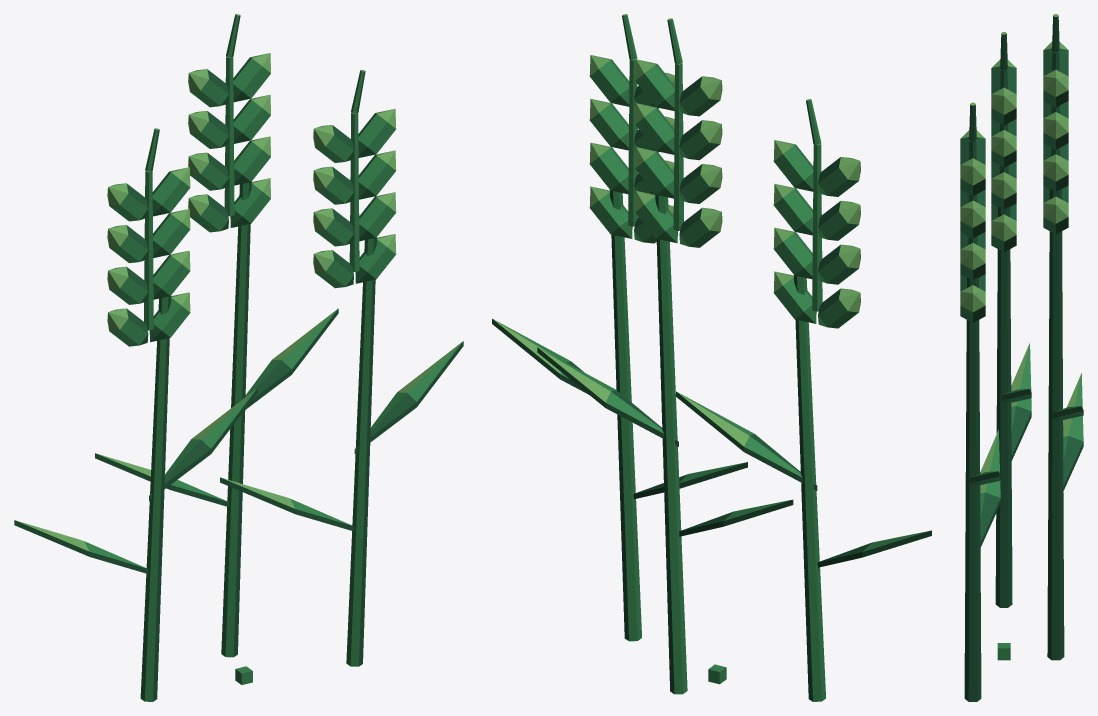
The model's file is wheat_stage_03.fbx.
3 renders of one model, left to right at view 1: azimuth 30°, elevation 25°; view 2: azimuth 150°, elevation 25°; view 3: azimuth 270°, elevation 25°, orthographic. The views are drawn at different scales.
Parts seen in each view (by area): view 1: wheat_stage_03__Foliage; view 2: wheat_stage_03__Foliage; view 3: wheat_stage_03__Foliage, wheat_stage_03__Origin.
Boxes of the visible parts, bbox=[...] form: wheat_stage_03__Foliage: bbox=[14, 14, 463, 701]; wheat_stage_03__Foliage: bbox=[492, 14, 931, 701]; wheat_stage_03__Foliage: bbox=[960, 14, 1083, 701]; wheat_stage_03__Origin: bbox=[997, 643, 1010, 660].
Bounding box in the file's own units: 1.57 × 2.22 × 0.3806.
1 material, 1 textured.
